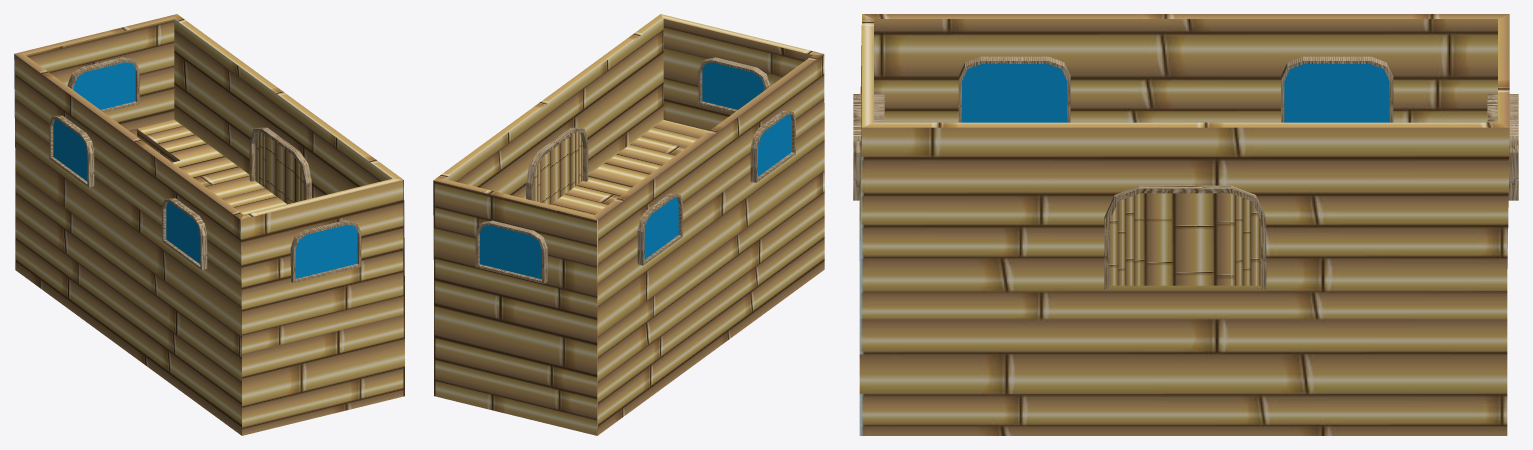
File: CajaCasa 3.4 Interior 2.fbx
3 views of the same model, side by side, from view 1: azimuth 30°, elevation 25°; view 2: azimuth 150°, elevation 25°; view 3: azimuth 270°, elevation 25° (orthographic). The views are drawn at different scales.
Parts seen in each view (by area): view 1: Ventana 1.059; view 2: Ventana 1.059; view 3: Ventana 1.059.
Boxes of the visible parts, left/top/right/bottom form: Ventana 1.059: left=14, top=14, right=404, bottom=435; Ventana 1.059: left=433, top=14, right=824, bottom=435; Ventana 1.059: left=853, top=14, right=1518, bottom=435.
Size of the model in its own units: 335 by 399 by 781.
12 materials, 8 textured.
